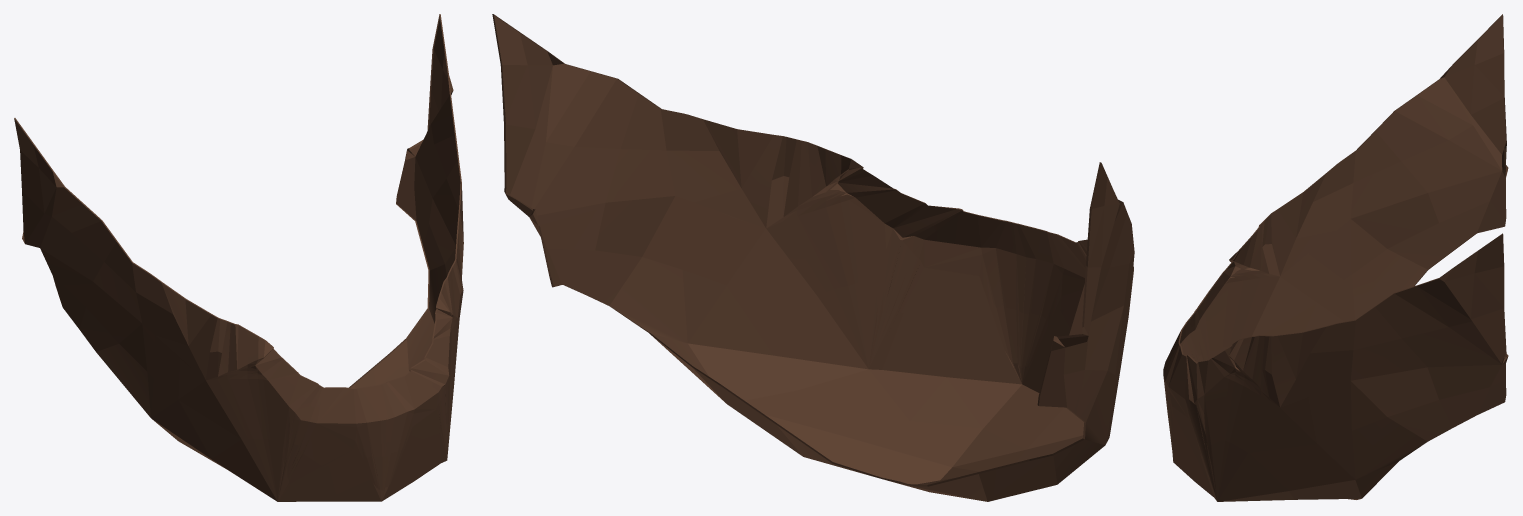
Rendered from media_blocada.glb.
3 renders of one model, left to right at view 1: azimuth 30°, elevation 25°; view 2: azimuth 150°, elevation 25°; view 3: azimuth 270°, elevation 25°, orthographic. The views are drawn at different scales.
Parts seen in each view (by area): view 1: EA_media_blocada; view 2: EA_media_blocada; view 3: EA_media_blocada.
Boxes of the visible parts, box(x1,y1,x2,y2) form: EA_media_blocada: box(14, 14, 463, 501); EA_media_blocada: box(492, 14, 1134, 501); EA_media_blocada: box(1163, 14, 1508, 501).
Size of the model in its own units: 0.2132 by 0.1676 by 0.1414.
